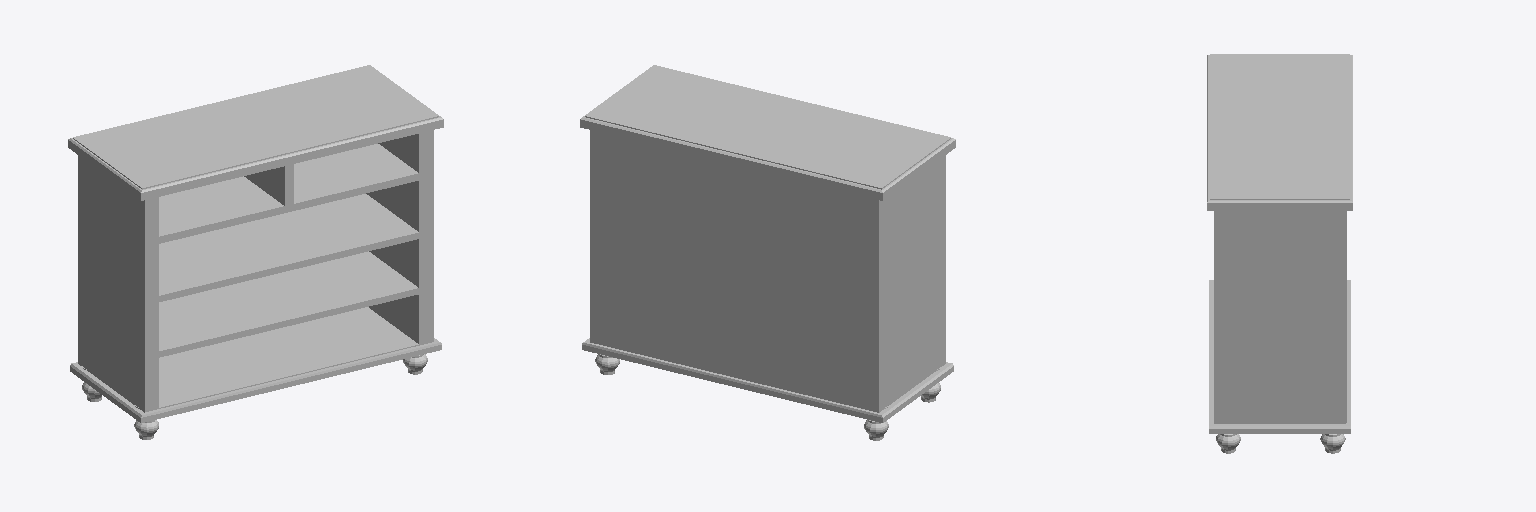
Rendered from DrawerFrame.obj.
3 views of the same model, side by side, from view 1: azimuth 30°, elevation 25°; view 2: azimuth 150°, elevation 25°; view 3: azimuth 270°, elevation 25° (orthographic).
Parts seen in each view (by area): view 1: Plane_007; view 2: Plane_007; view 3: Plane_007.
Boxes of the visible parts, x1=… form: Plane_007: x1=68, y1=65, x2=443, y2=439; Plane_007: x1=580, y1=65, x2=955, y2=440; Plane_007: x1=1207, y1=54, x2=1352, y2=453.
Size of the model in its own units: 1.4 by 1.14 by 0.5882.